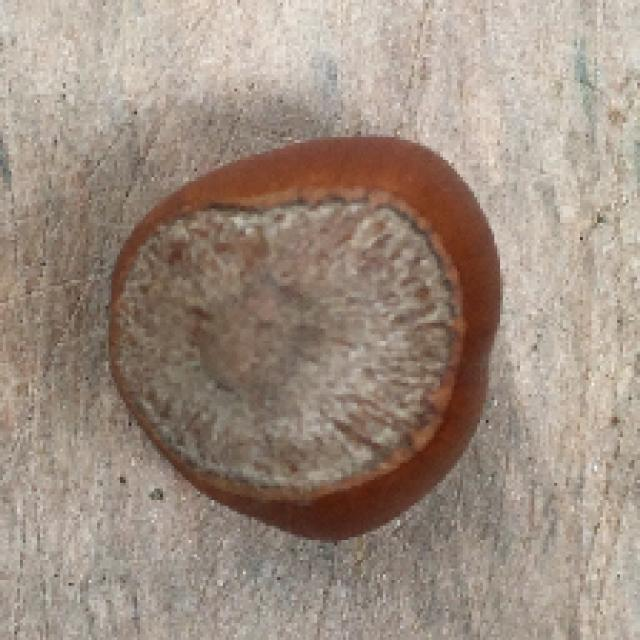qualityHazelnut: (104, 132, 508, 545)
